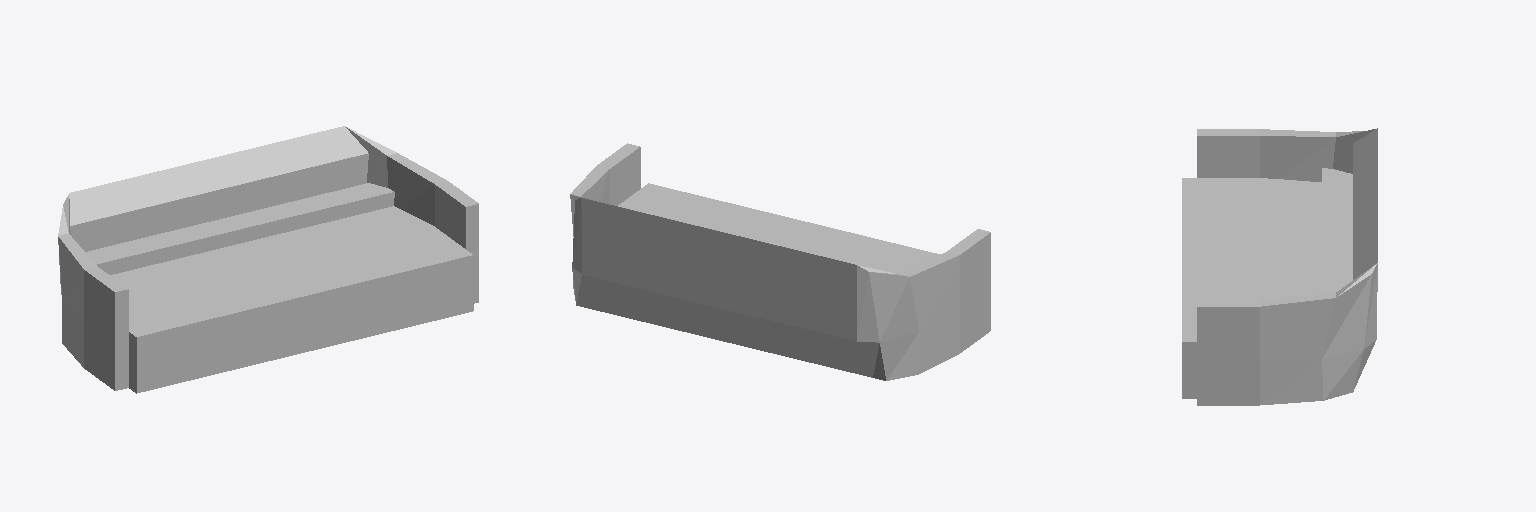
Rendered from modeltseat.obj.
3 renders of one model, left to right at view 1: azimuth 30°, elevation 25°; view 2: azimuth 150°, elevation 25°; view 3: azimuth 270°, elevation 25°, orthographic.
Parts seen in each view (by area): view 1: modeltseat; view 2: modeltseat; view 3: modeltseat.
Part boxes in pixels (x1,y1,x2,y2): modeltseat: (58,126,478,393); modeltseat: (570,143,990,380); modeltseat: (1182,128,1377,405).
Bounding box in the file's own units: 1.69 × 0.5375 × 0.7875.